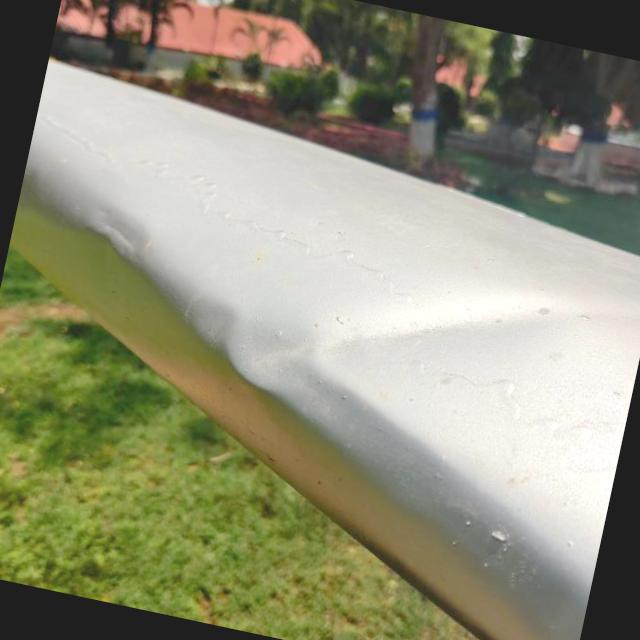dent: (195, 223, 546, 469), (76, 185, 170, 276)
